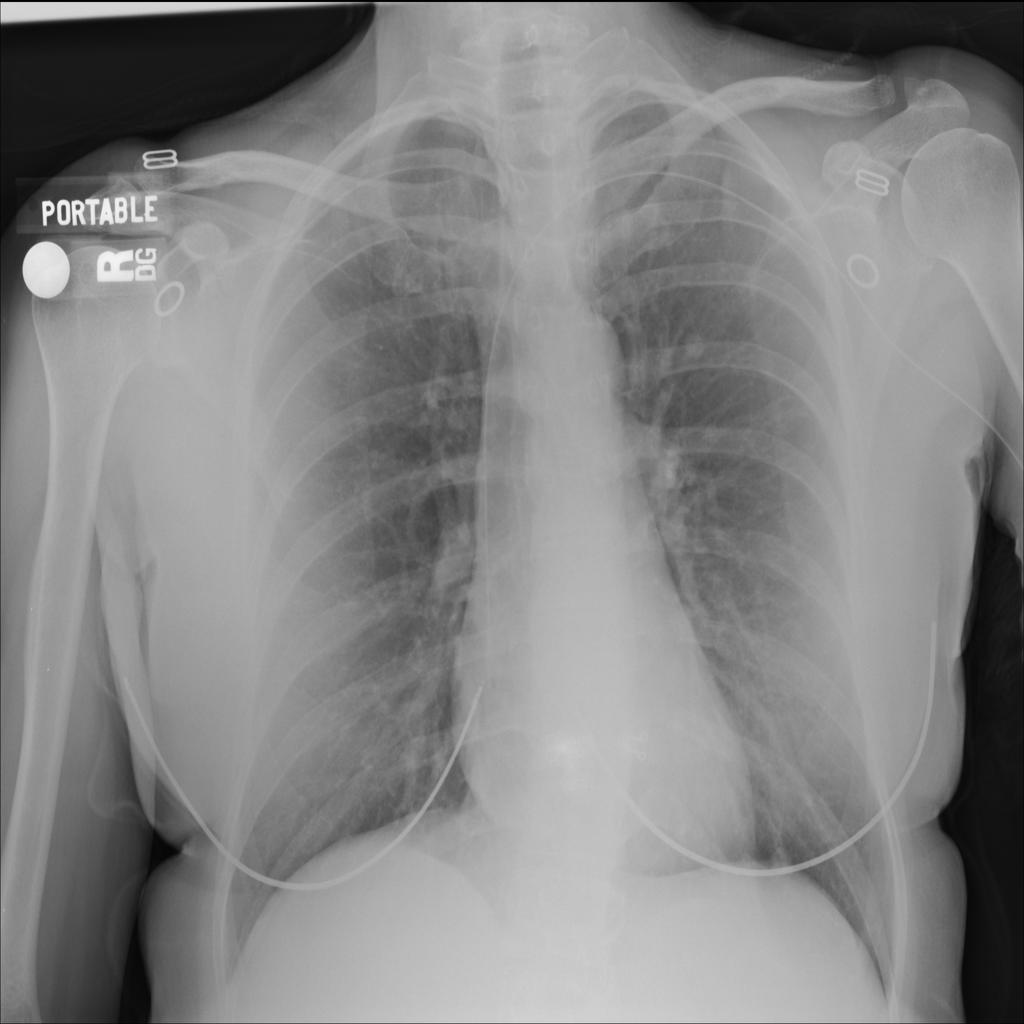nodule: (679, 323, 711, 364)
